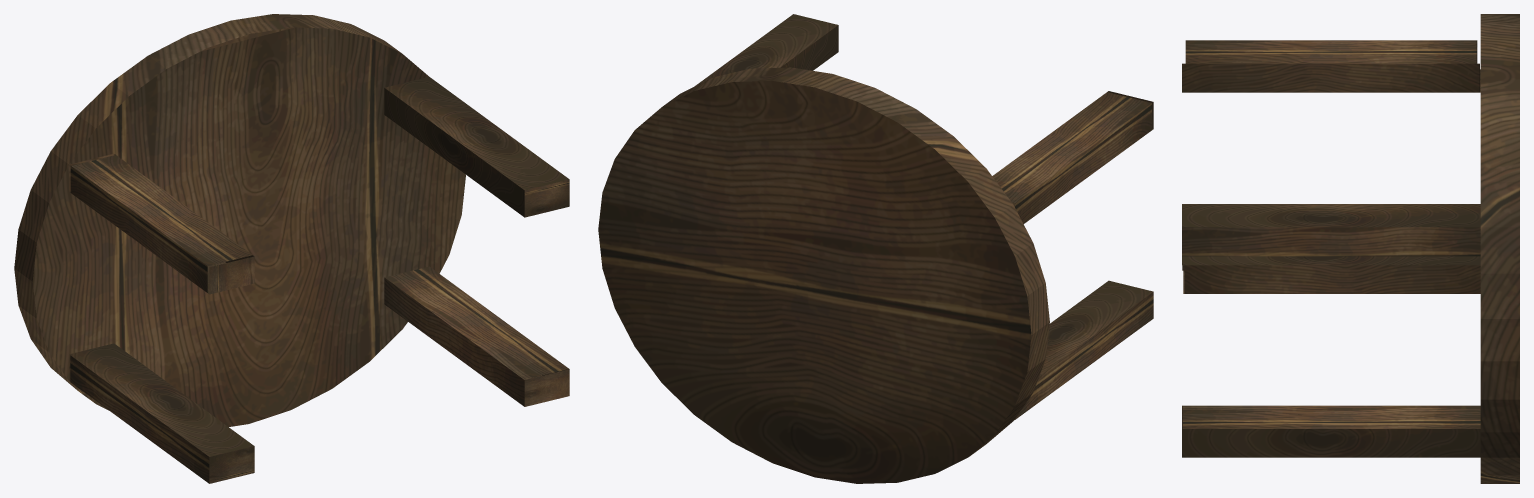
The model's file is mesa.fbx.
3 renders of one model, left to right at view 1: azimuth 30°, elevation 25°; view 2: azimuth 150°, elevation 25°; view 3: azimuth 270°, elevation 25°, orthographic. The views are drawn at different scales.
Visible parts, largest first — view 1: Circle; view 2: Circle; view 3: Circle.
Part boxes in pixels (x1,y1,x2,y2): Circle: (14,14,569,483); Circle: (598,14,1153,483); Circle: (1182,14,1519,483).
Bounding box in the file's own units: 200 × 172 × 127.
1 material, 1 textured.
